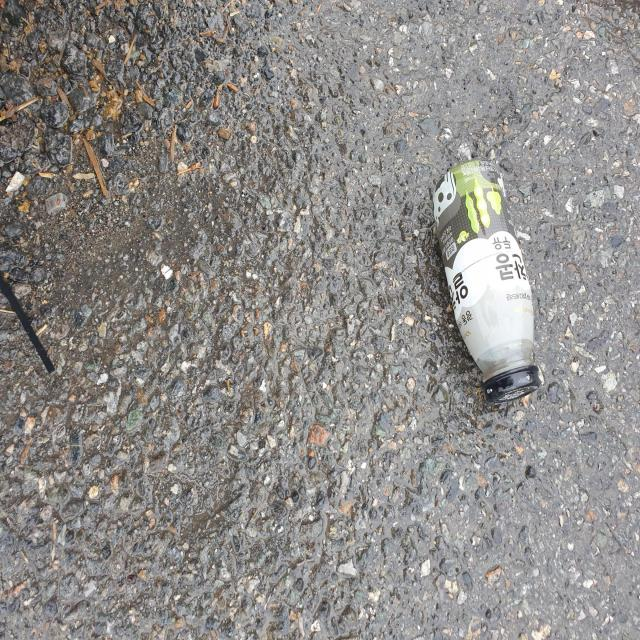glass: (434, 159, 541, 404)
